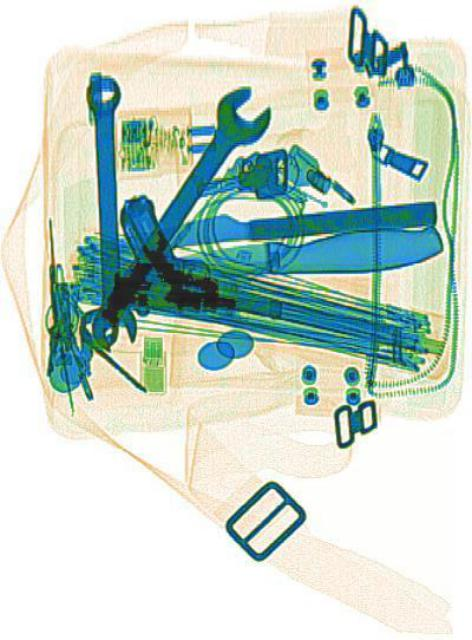Gun: (108, 190, 287, 324)
Knife: (91, 188, 433, 258), (119, 220, 440, 294)
Wrench: (65, 72, 274, 364), (76, 71, 137, 352)
